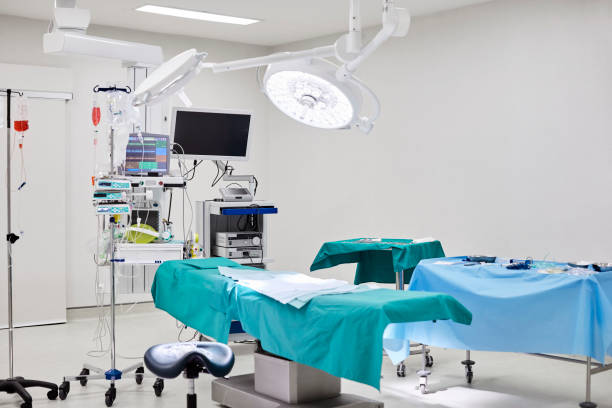bedside_monitor: (174, 110, 252, 157), (122, 132, 171, 175)
chair: (142, 340, 234, 408)
electrosurgical_unit: (216, 233, 263, 257)
iv_pole: (1, 88, 32, 388), (92, 84, 131, 173)
operating_bed: (150, 256, 474, 408)
surgical_instrument: (467, 239, 593, 278)
surgical_light: (264, 58, 380, 130), (131, 48, 205, 105)
syringe_pump: (91, 179, 133, 193), (90, 192, 132, 205), (96, 204, 138, 216)
utility_cart: (405, 256, 610, 393), (310, 239, 446, 393)
